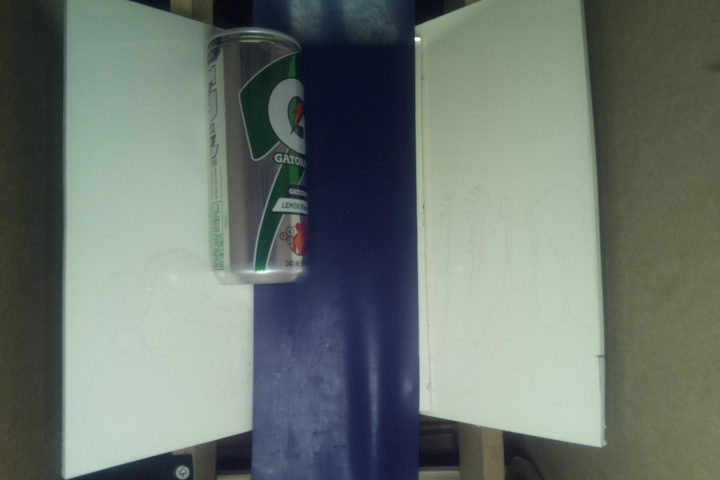can: (208, 26, 312, 285)
